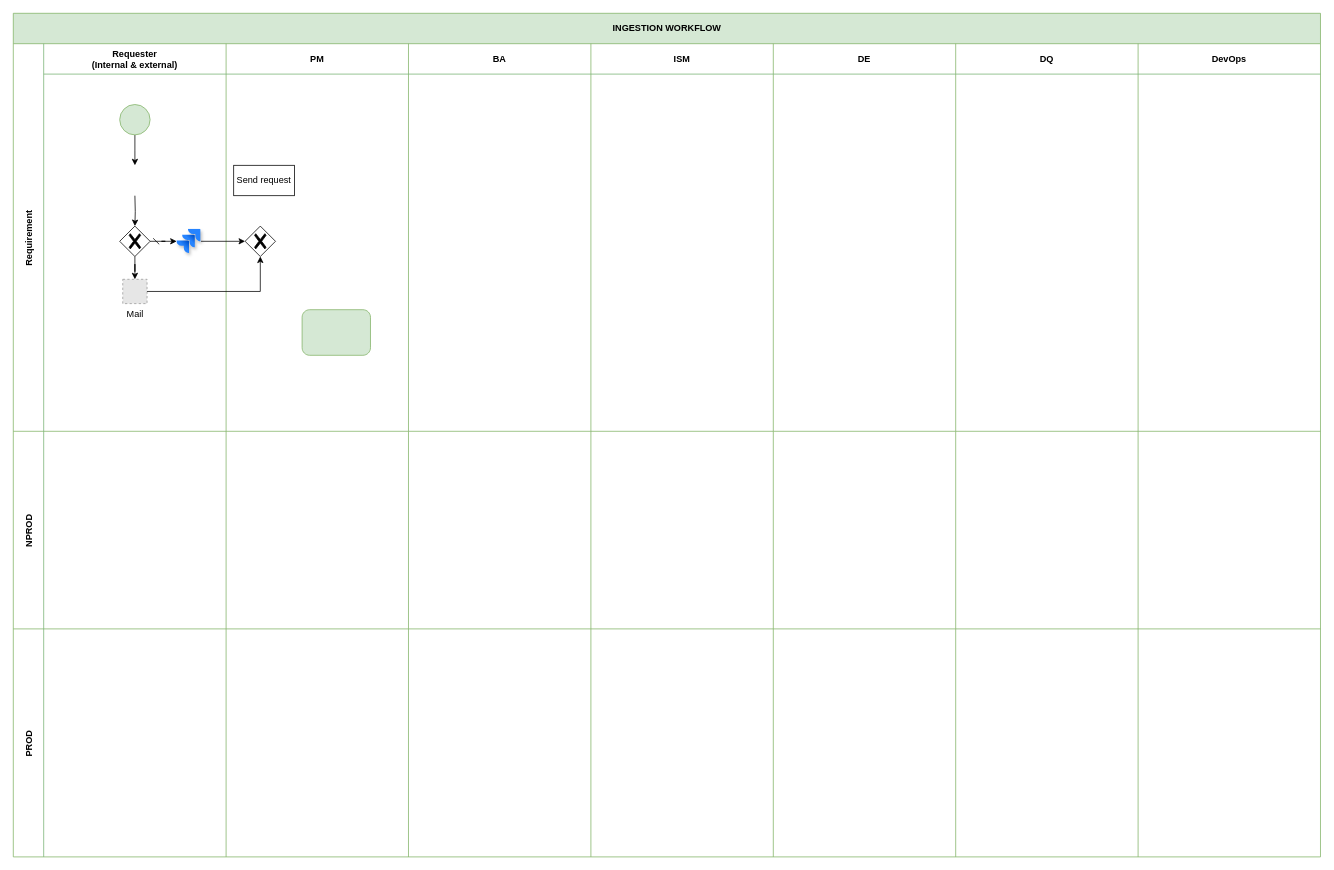
Image size: 1334x870. Some labels were removed from this diagram. Grey dashed boxes stand in for pictures. The shapes that lost their labels are listed below. From the top down, each one's centre as x and y in pixels, then its label:
point (134, 119): Start
point (189, 242): Jira
